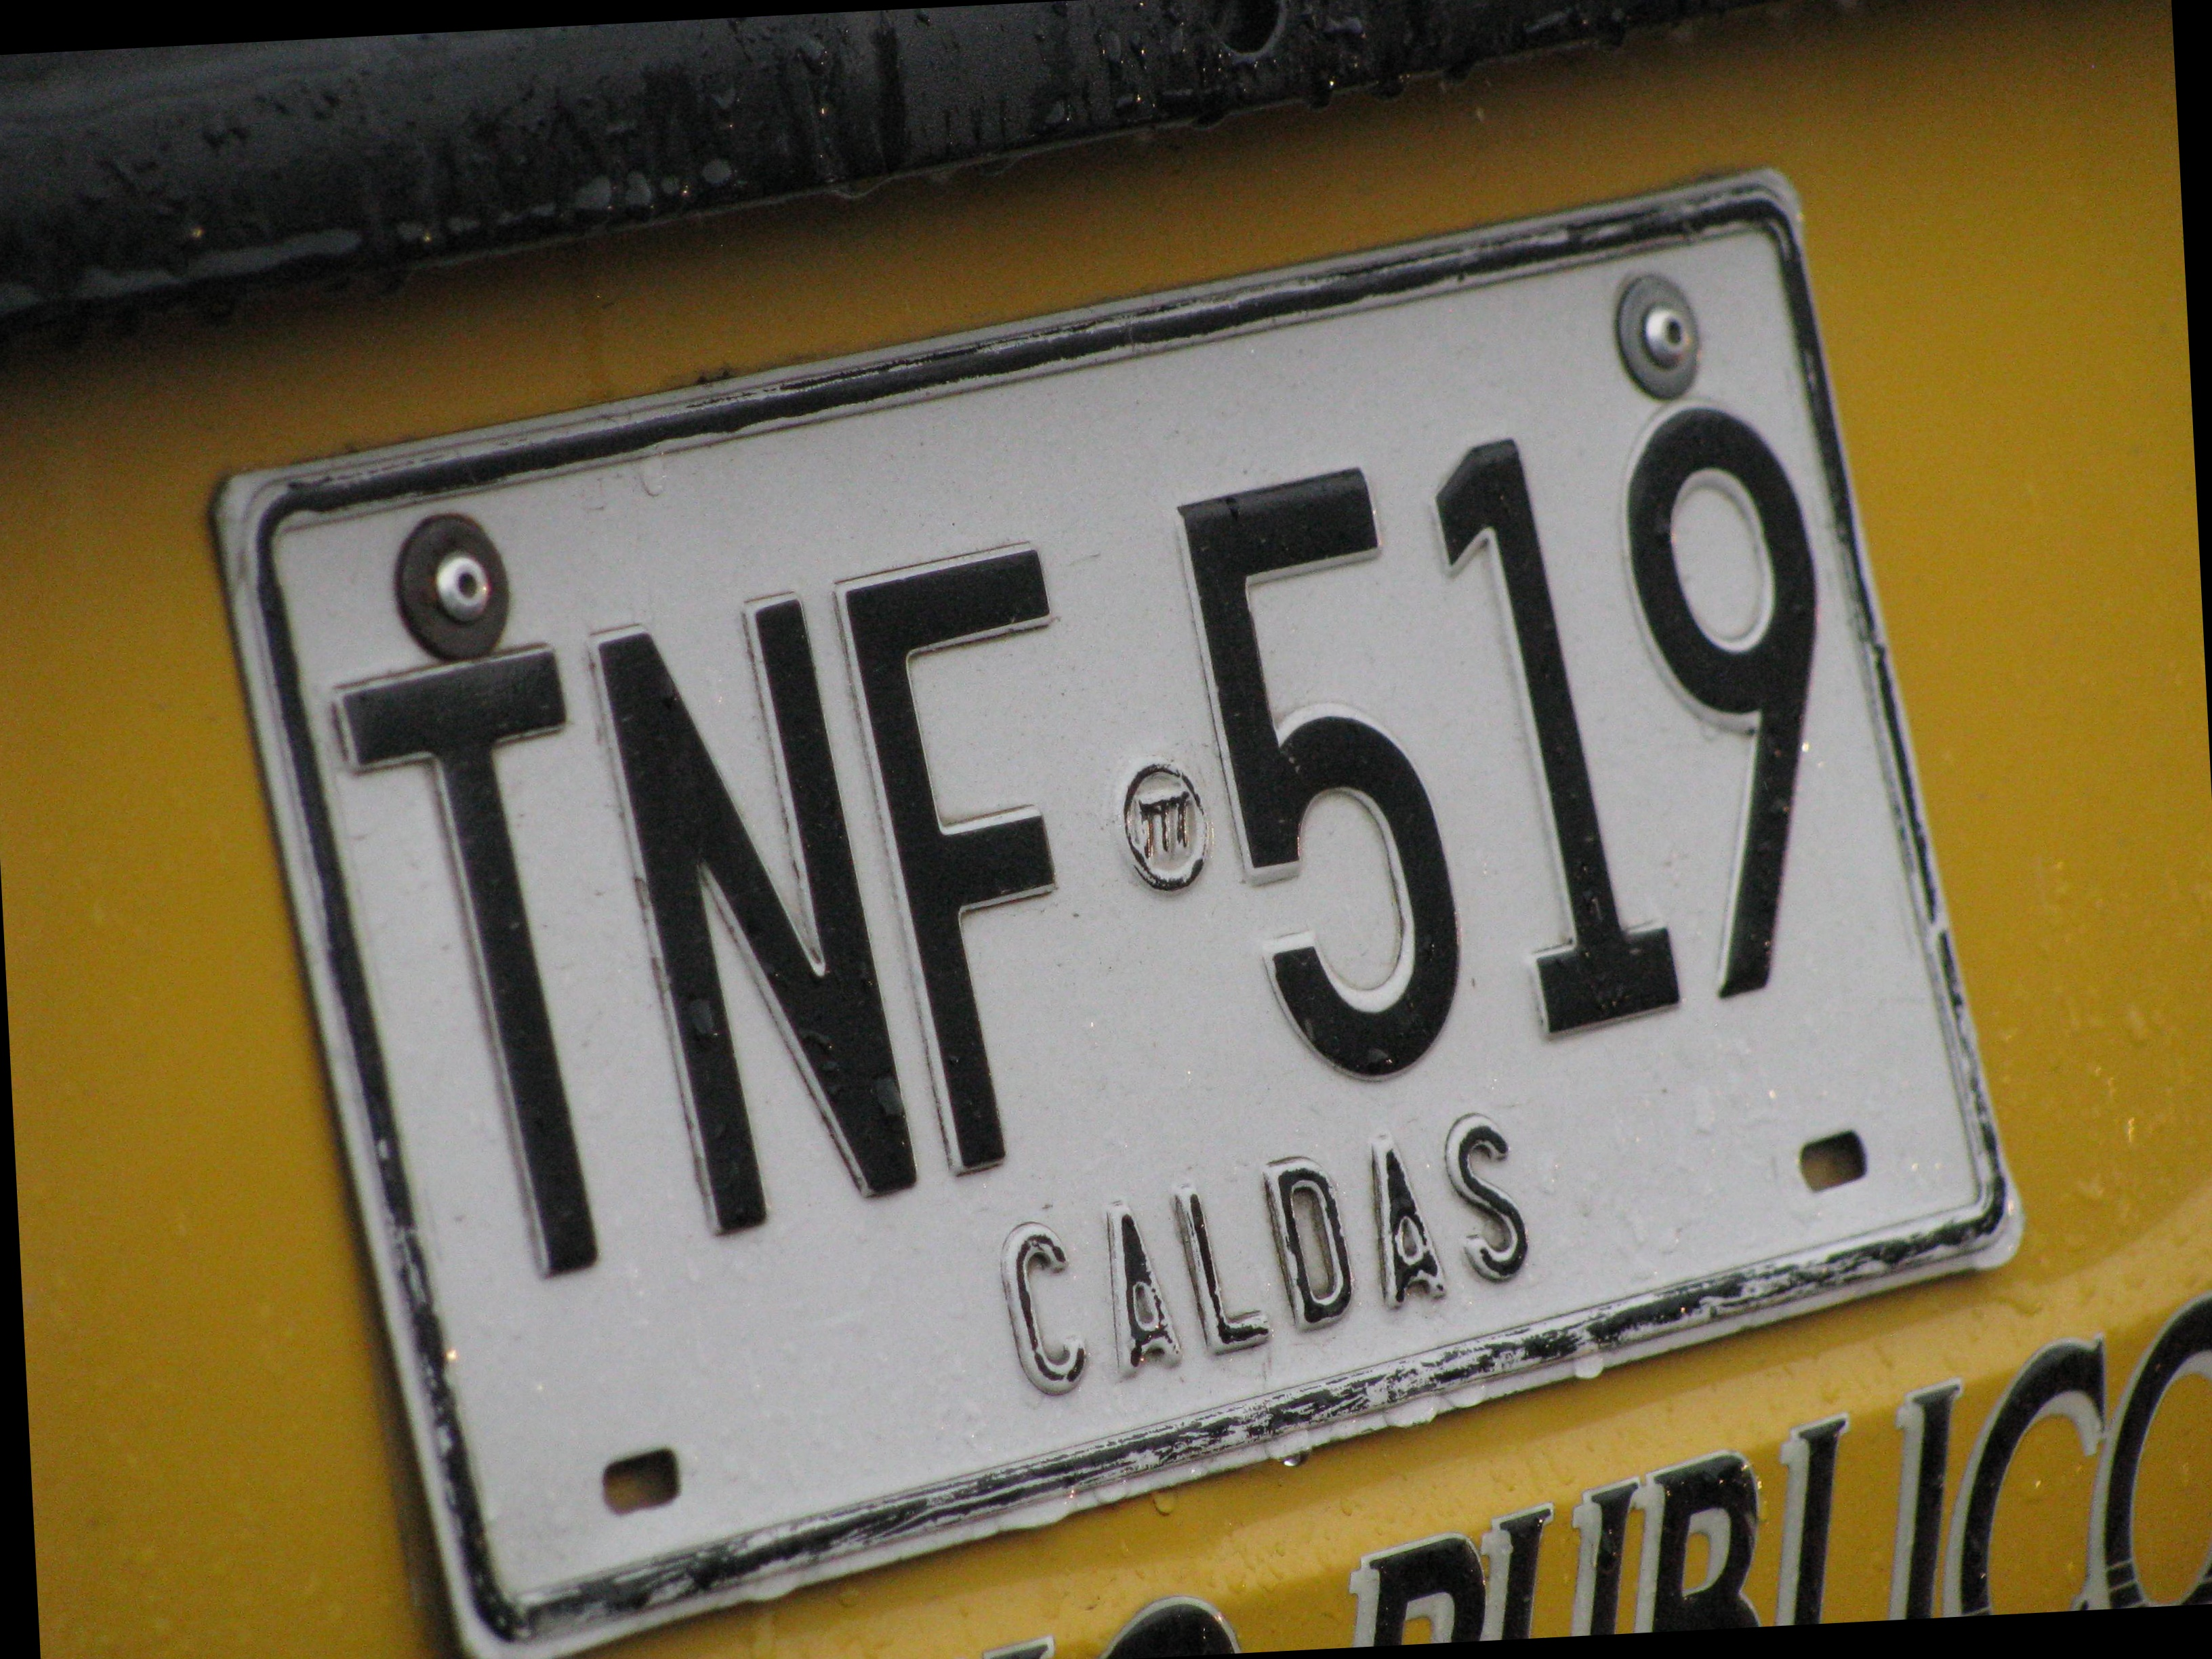placas: (186, 140, 2053, 1659)
